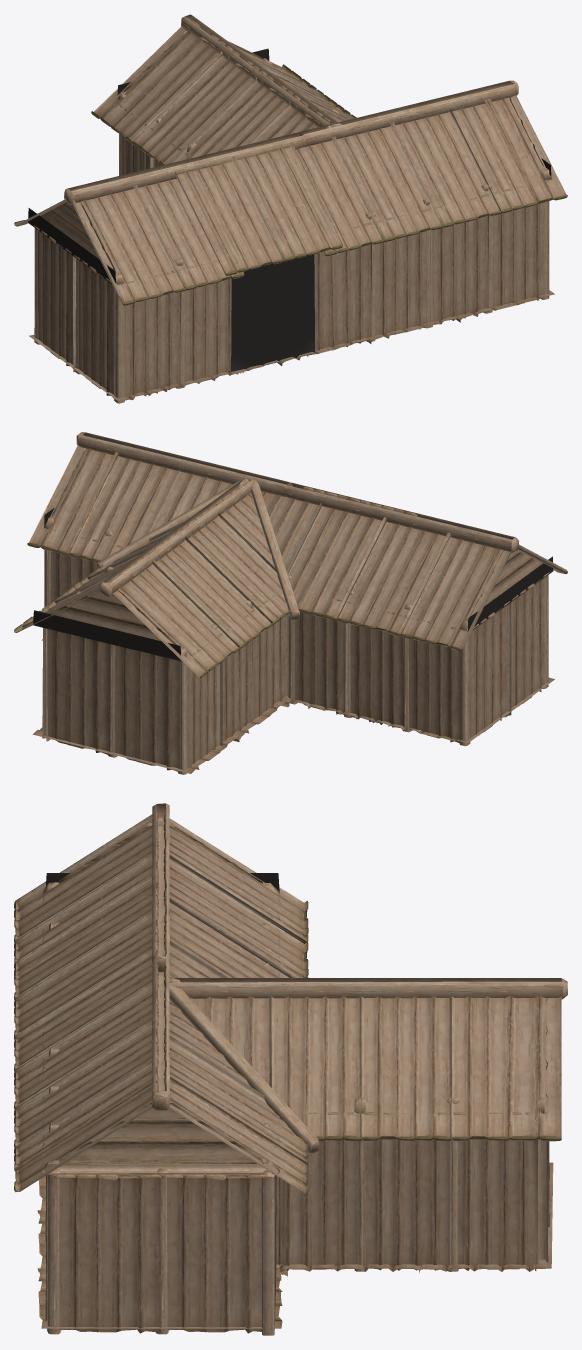
File: House_01_interior.fbx
The picture shows the model from 3 angles, top to bottom: view 1: azimuth 30°, elevation 25°; view 2: azimuth 150°, elevation 25°; view 3: azimuth 270°, elevation 25°; orthographic projection. The views are drawn at different scales.
Parts seen in each view (by area): view 1: House_01_interior; view 2: House_01_interior; view 3: House_01_interior.
Boxes of the visible parts, x1,y1,x2,y2 form: House_01_interior: (14, 14, 567, 403); House_01_interior: (14, 432, 567, 774); House_01_interior: (14, 803, 567, 1335).
Bounding box in the file's own units: 10.32 × 4.04 × 8.25.
